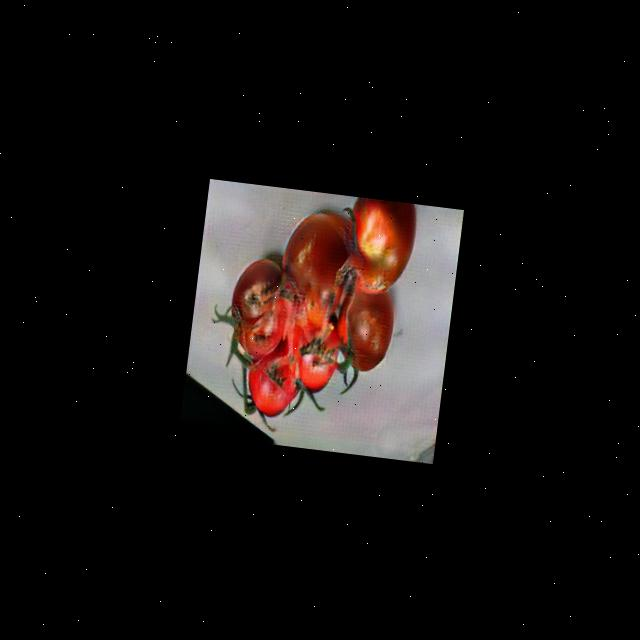tomato: (274, 204, 353, 319), (338, 196, 418, 295), (222, 250, 292, 355), (332, 286, 398, 374)
